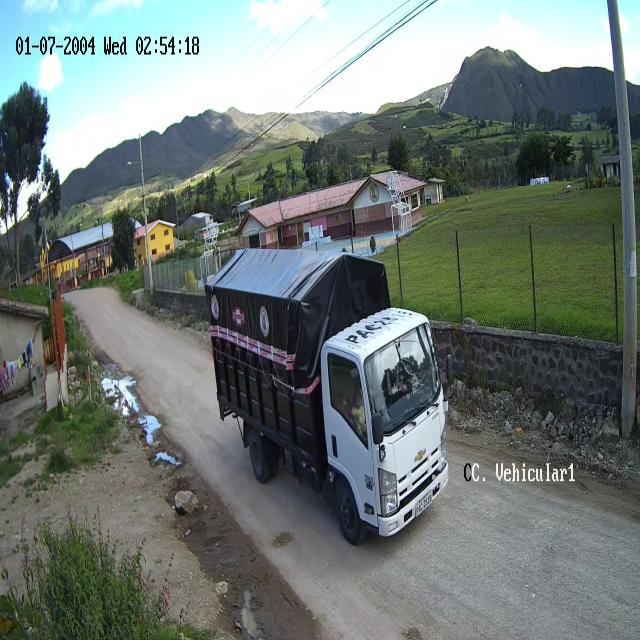TRUCK: (203, 244, 449, 547)
